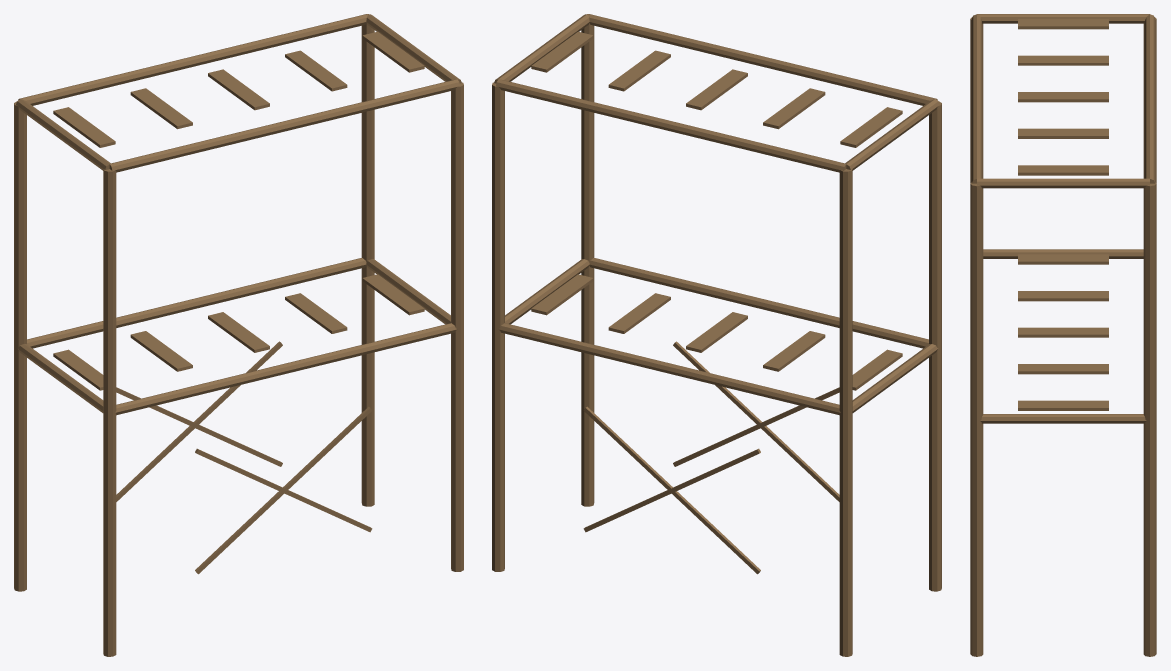
The model's file is scaffolding.glb.
3 renders of one model, left to right at view 1: azimuth 30°, elevation 25°; view 2: azimuth 150°, elevation 25°; view 3: azimuth 270°, elevation 25°, orthographic. The views are drawn at different scales.
Visible parts, largest first — view 1: scaffolding; view 2: scaffolding; view 3: scaffolding.
Boxes of the visible parts, bbox=[...] form: scaffolding: bbox=[14, 14, 463, 656]; scaffolding: bbox=[492, 14, 941, 656]; scaffolding: bbox=[970, 14, 1156, 656].
Size of the model in its own units: 1.86 by 2.43 by 0.86.
